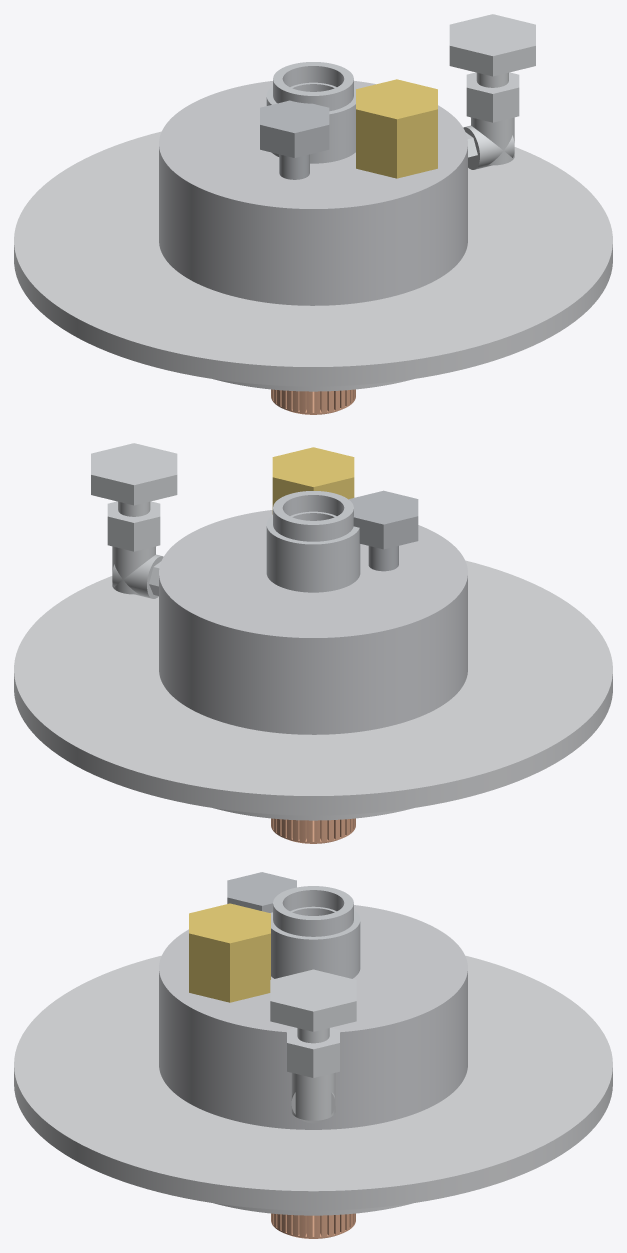
The model's file is pintle_injector_full.glb.
3 renders of one model, top to bottom at view 1: azimuth 30°, elevation 25°; view 2: azimuth 150°, elevation 25°; view 3: azimuth 270°, elevation 25°, orthographic.
Parts seen in each view (by area): view 1: Injector_Baseplate, Upper_Manifold_Housing, Side_Elbow_Feed_Fitting, Brass_Chamber_Port_Fitting, Top_Center_Inlet_Fitting, Instrumentation_And_Bolts, Copper_Pintle_Tip; view 2: Injector_Baseplate, Upper_Manifold_Housing, Side_Elbow_Feed_Fitting, Top_Center_Inlet_Fitting, Instrumentation_And_Bolts, Brass_Chamber_Port_Fitting, Copper_Pintle_Tip; view 3: Injector_Baseplate, Upper_Manifold_Housing, Side_Elbow_Feed_Fitting, Top_Center_Inlet_Fitting, Brass_Chamber_Port_Fitting, Instrumentation_And_Bolts, Copper_Pintle_Tip.
Boxes of the visible parts, box(x1,y1,x2,y2) form: Injector_Baseplate: box(14, 131, 612, 391); Upper_Manifold_Housing: box(159, 81, 467, 305); Side_Elbow_Feed_Fitting: box(449, 14, 535, 169); Brass_Chamber_Port_Fitting: box(356, 79, 437, 178); Top_Center_Inlet_Fitting: box(266, 62, 357, 163); Instrumentation_And_Bolts: box(260, 100, 329, 179); Copper_Pintle_Tip: box(271, 389, 355, 414); Injector_Baseplate: box(14, 560, 612, 820); Upper_Manifold_Housing: box(159, 510, 467, 734); Side_Elbow_Feed_Fitting: box(91, 443, 177, 598); Top_Center_Inlet_Fitting: box(266, 491, 360, 592); Instrumentation_And_Bolts: box(349, 490, 418, 571); Brass_Chamber_Port_Fitting: box(272, 447, 354, 514); Copper_Pintle_Tip: box(271, 818, 355, 843); Injector_Baseplate: box(14, 955, 612, 1215); Upper_Manifold_Housing: box(159, 905, 467, 1129); Side_Elbow_Feed_Fitting: box(270, 969, 356, 1123); Top_Center_Inlet_Fitting: box(270, 886, 360, 978); Brass_Chamber_Port_Fitting: box(189, 903, 270, 1002); Instrumentation_And_Bolts: box(227, 872, 296, 912); Copper_Pintle_Tip: box(271, 1213, 355, 1238).
Bounding box in the file's own units: 180 × 106 × 180.
